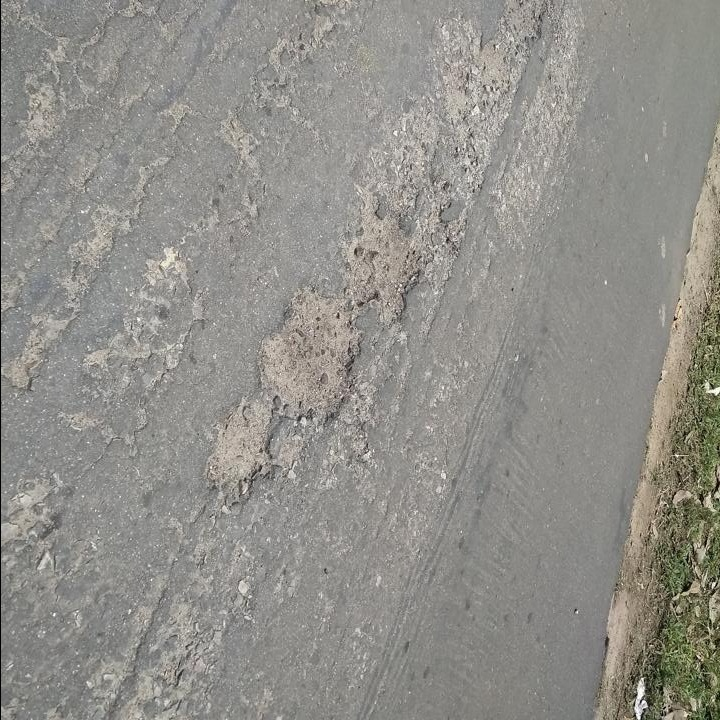pothole: (442, 0, 554, 140), (257, 281, 363, 426), (341, 205, 429, 324), (199, 399, 279, 503)
